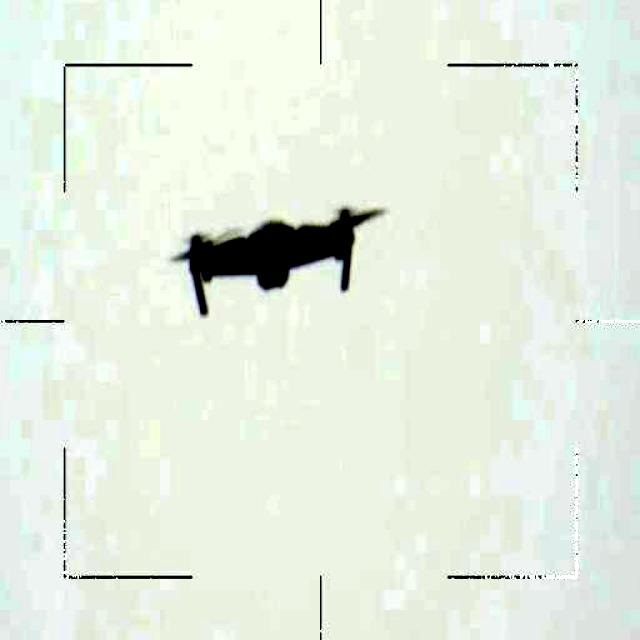bird: (162, 199, 392, 320)
